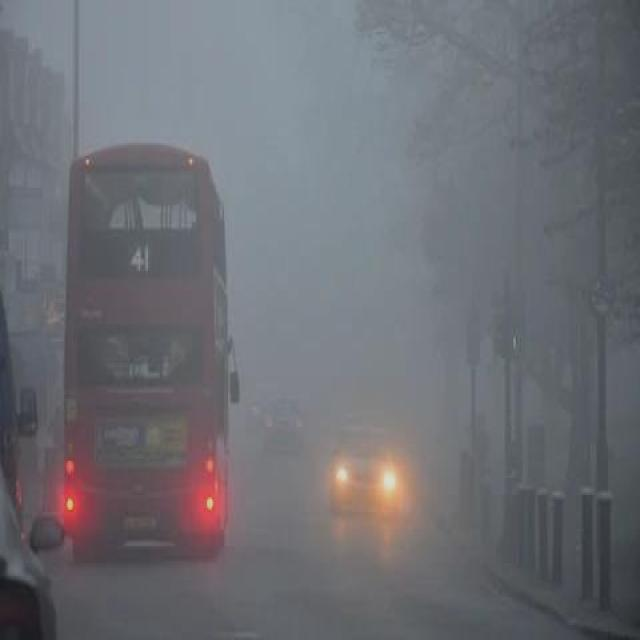Bus: (59, 138, 240, 559)
Car: (327, 419, 403, 516)
